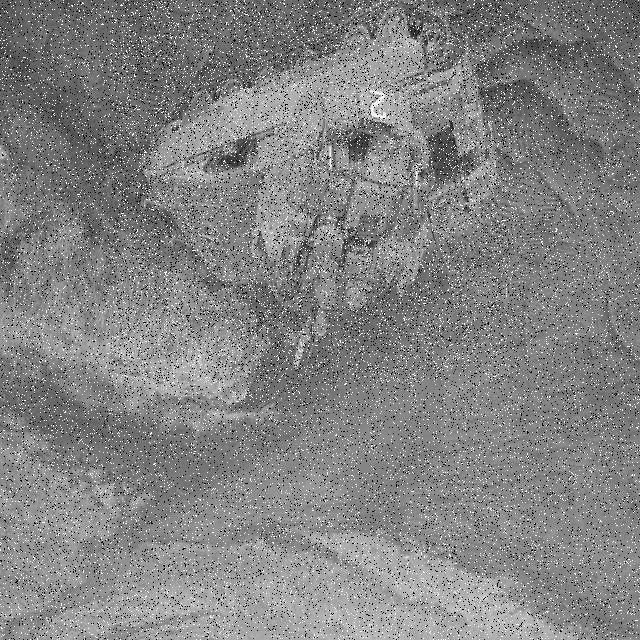MIL_MBT: (112, 2, 514, 381)
